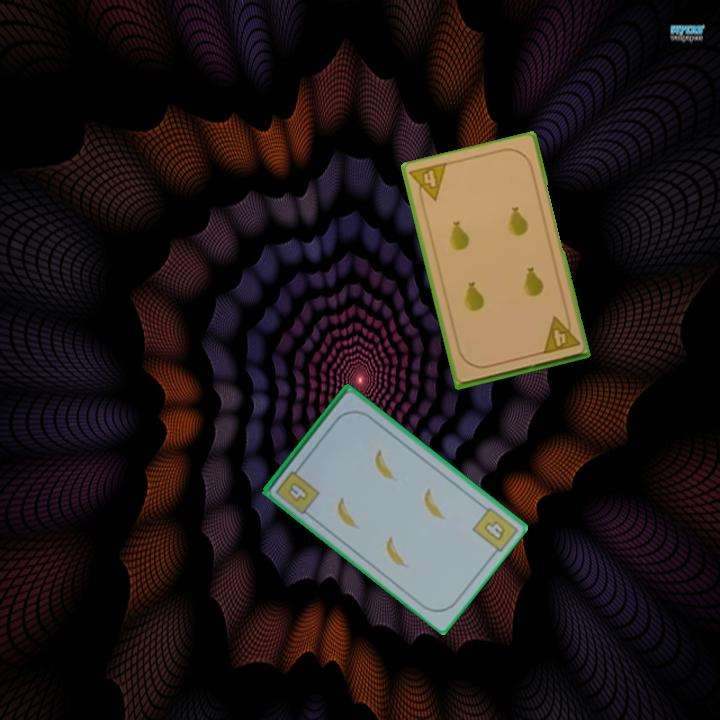4b: (272, 461, 323, 517), (480, 517, 509, 544)
4p: (406, 159, 450, 208), (539, 311, 582, 357)
